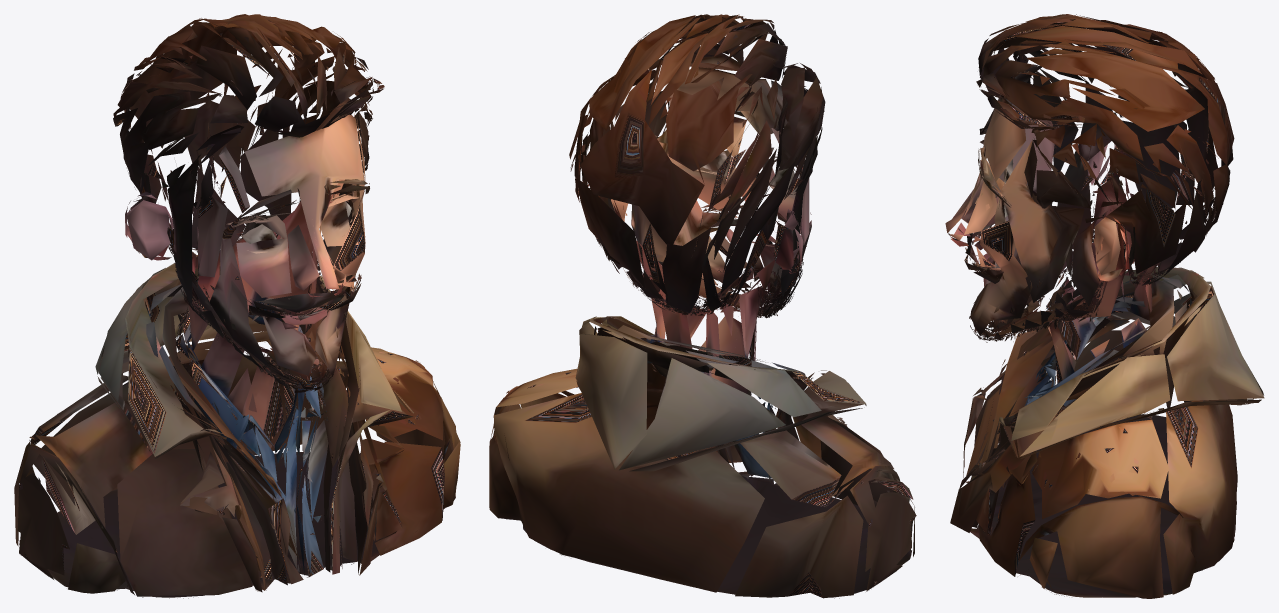
Rendered from statue_shell_optimized.glb.
3 renders of one model, left to right at view 1: azimuth 30°, elevation 25°; view 2: azimuth 150°, elevation 25°; view 3: azimuth 270°, elevation 25°, orthographic. The views are drawn at different scales.
Visible parts, largest first — view 1: Statue_Shell_Max_Optimized; view 2: Statue_Shell_Max_Optimized; view 3: Statue_Shell_Max_Optimized.
Part boxes in pixels (box(x1,y1,x2,y2)): Statue_Shell_Max_Optimized: box(14, 14, 460, 598); Statue_Shell_Max_Optimized: box(489, 14, 916, 598); Statue_Shell_Max_Optimized: box(945, 14, 1264, 598).
Bounding box in the file's own units: 0.8127 × 1 × 0.5931.
1 material, 1 textured.
